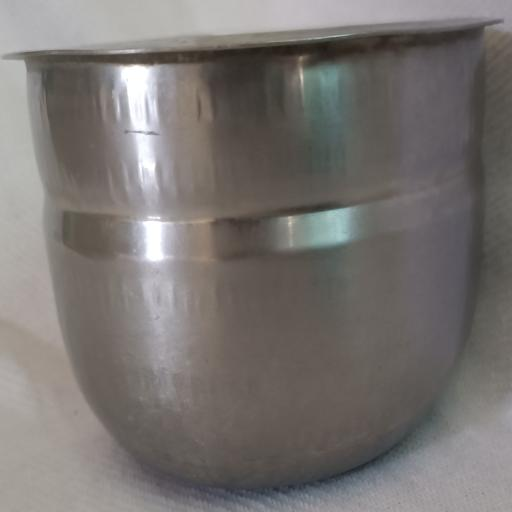vessel: (9, 19, 495, 487)
